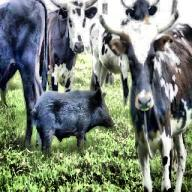boar: (99, 0, 191, 191), (30, 74, 114, 156)
